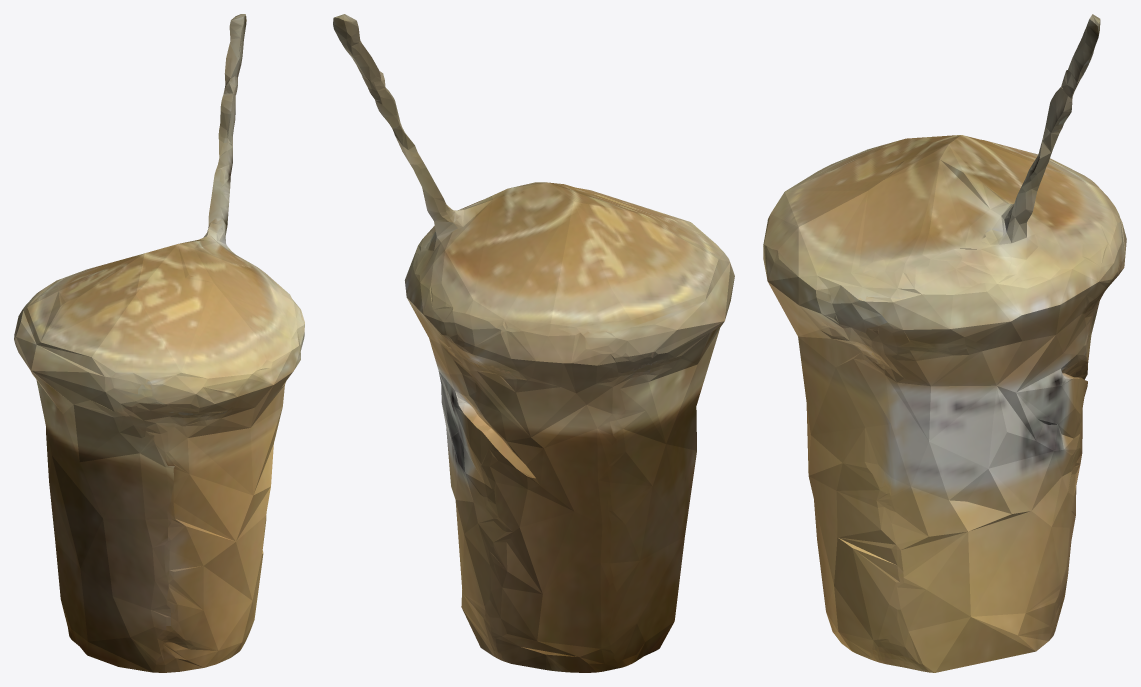
Rendered from coffeeIced.obj.
3 renders of one model, left to right at view 1: azimuth 30°, elevation 25°; view 2: azimuth 150°, elevation 25°; view 3: azimuth 270°, elevation 25°, orthographic. The views are drawn at different scales.
Size of the model in its own units: 37.91 by 70.93 by 33.62.
1 material, 1 textured.
